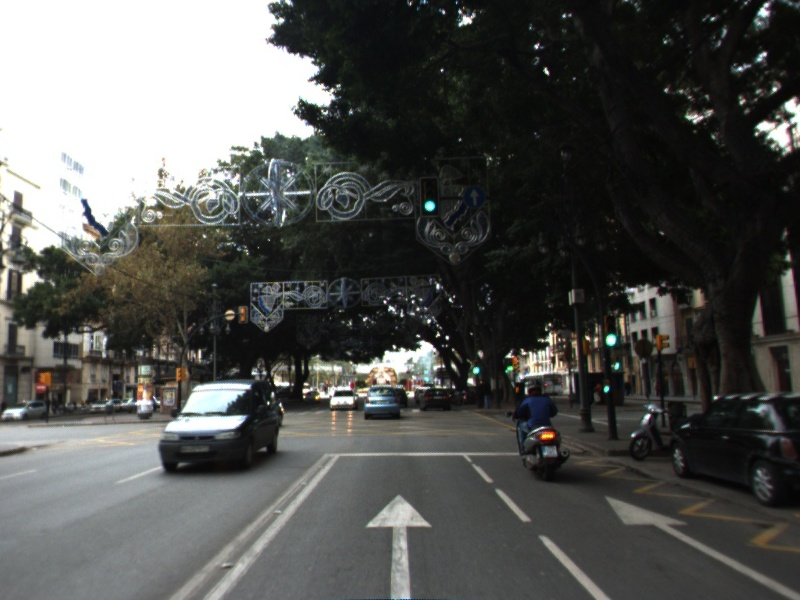STRAIGHT: (600, 494, 800, 600), (361, 489, 436, 600)
